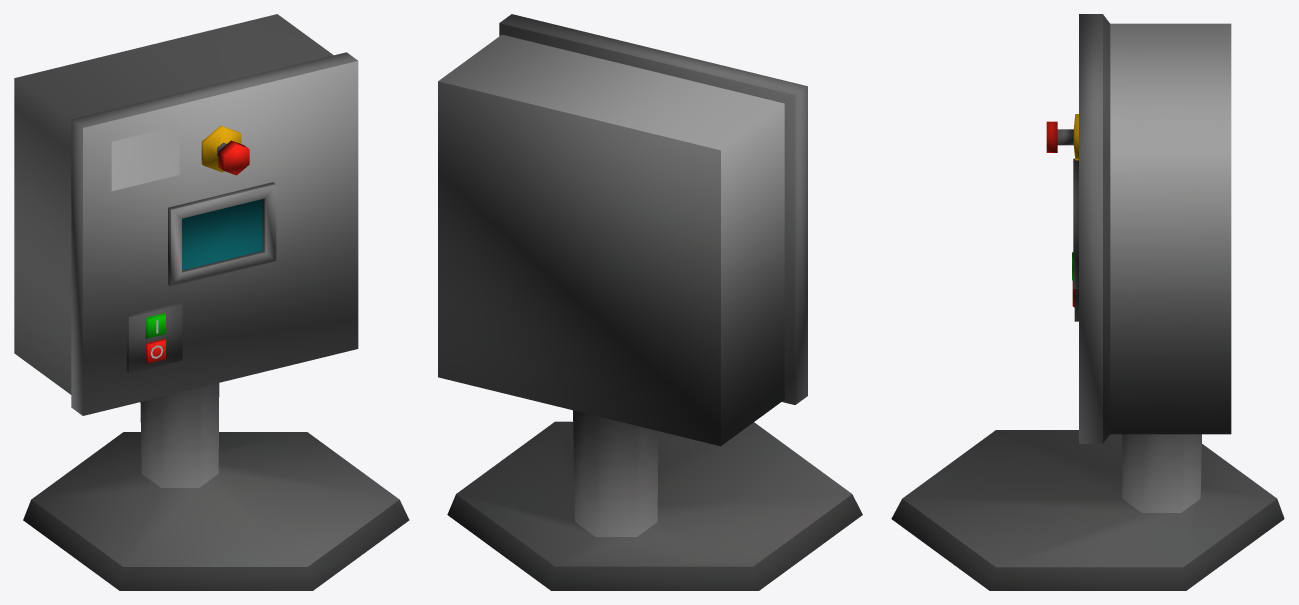
The model's file is PainelEletrico.fbx.
3 renders of one model, left to right at view 1: azimuth 30°, elevation 25°; view 2: azimuth 150°, elevation 25°; view 3: azimuth 270°, elevation 25°, orthographic. The views are drawn at different scales.
Visible parts, largest first — view 1: PainelEletrico; view 2: PainelEletrico; view 3: PainelEletrico.
Boxes of the visible parts, x1,y1,x2,y2 form: PainelEletrico: (14, 14, 409, 590); PainelEletrico: (438, 14, 862, 590); PainelEletrico: (891, 14, 1284, 590).
Size of the model in its own units: 60.62 by 85.73 by 70.
